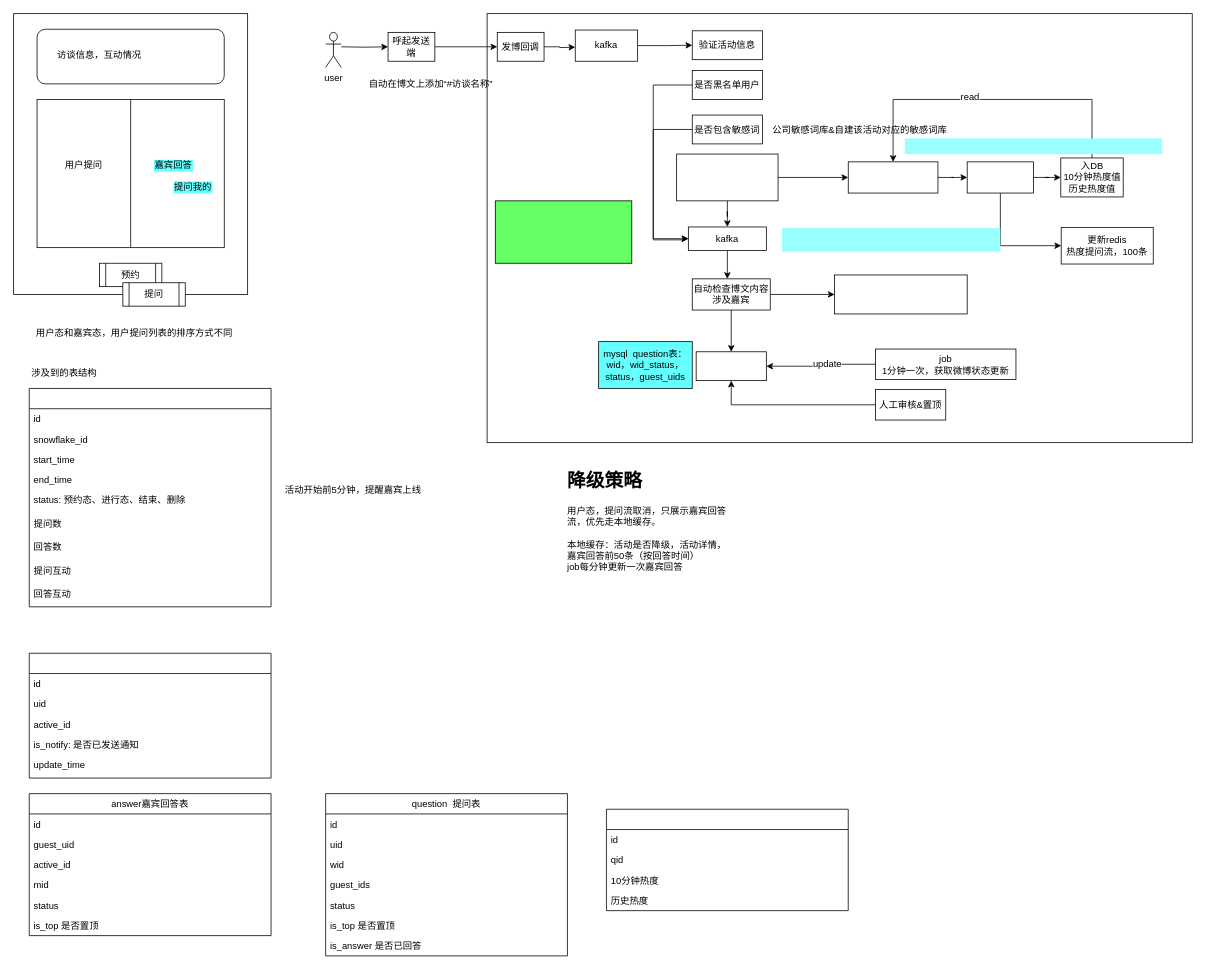
Image size: 1206x972. Some labels were removed from this diagram. The box of each missing label's shape, as (x1, y1, x2, y2) in pixels:
active 微访谈活动表: (28, 388, 271, 607)
appointment 预约表: (28, 652, 271, 778)
job 10分钟一次: (847, 161, 938, 193)
mysql wid, reason: (695, 351, 766, 381)
pika：zset origin_q_stream score: create_time: (676, 153, 778, 201)
question_interact: (606, 808, 848, 911)
加入嘉宾提问流，score：create_time，置顶自动: (834, 274, 967, 314)
巡检对账pika&mysql数据一致性 以zset数据为准: (495, 200, 632, 263)
活动结束后8个小时，热度计算停止，删除redis中的key: (904, 138, 1162, 154)
流存储： redis(热度提问流和嘉宾回答流) + pika: (782, 228, 1000, 251)
计算热度: (966, 161, 1034, 193)
